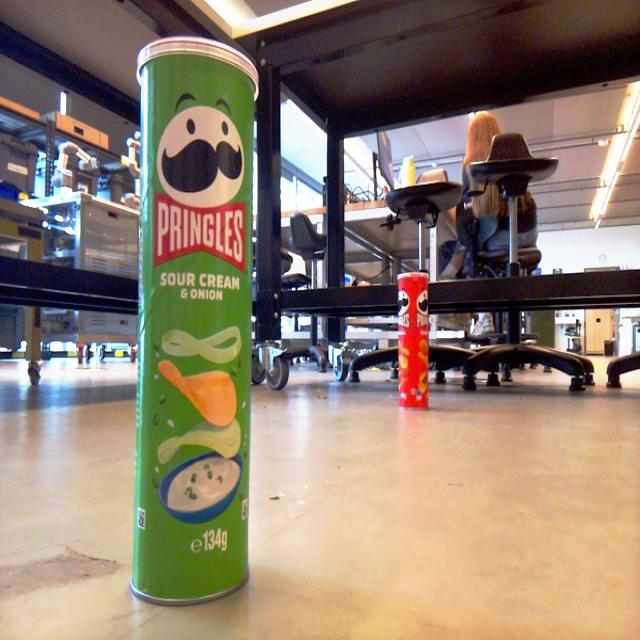greenpringles: (122, 31, 270, 612)
redpringles: (387, 247, 440, 444)
